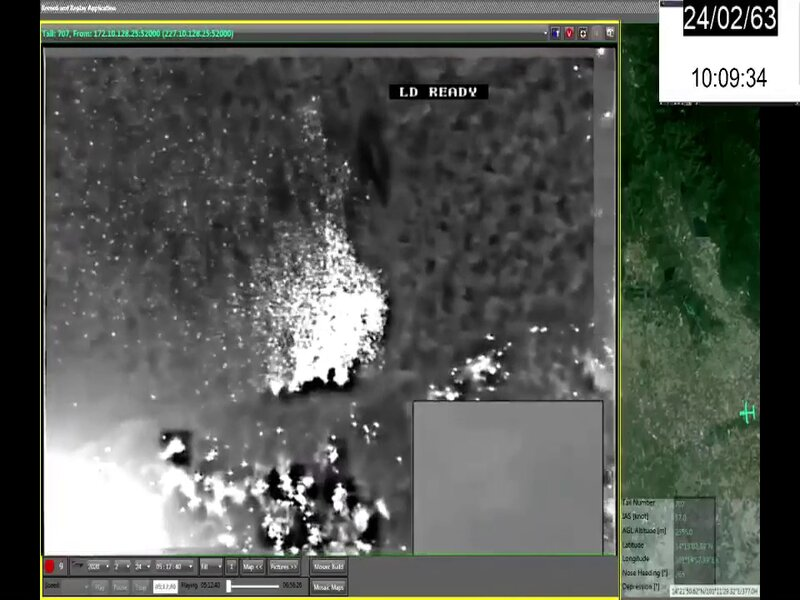Fire: (264, 218, 389, 397)
